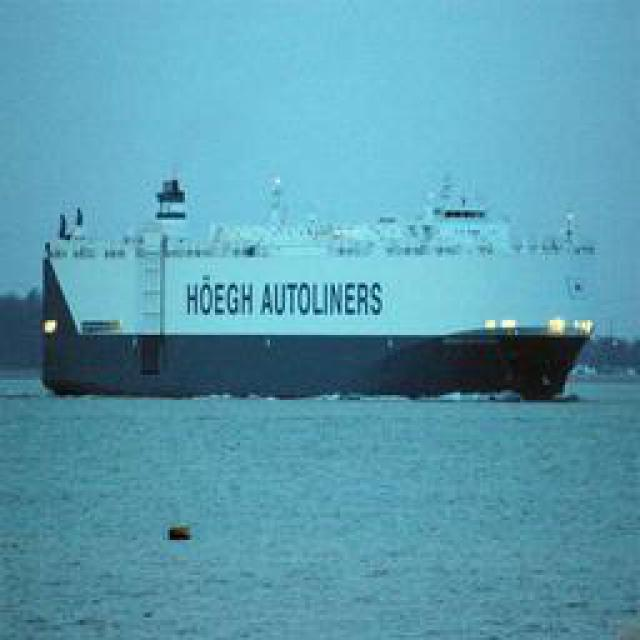Ship: (39, 124, 614, 387)
